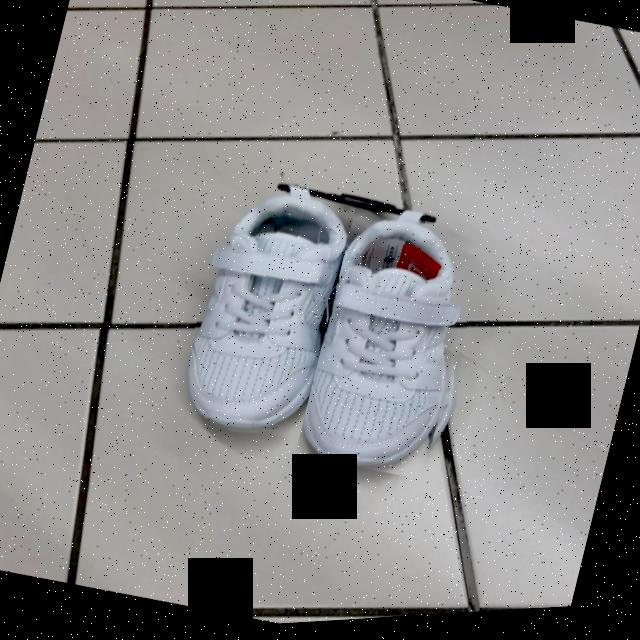shoe: (303, 224, 460, 473), (187, 198, 347, 437)
